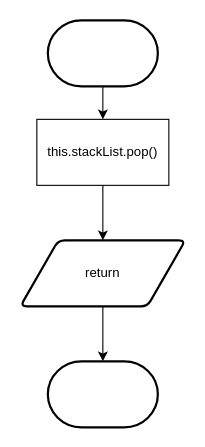
Some shapes in this 205 by 447 pixel diagram are drawn without their labels. The shapes that lost their labels are listed below. From the top down, each one's centre as x and y in pixels, then its label:
point (102, 53): start
point (102, 394): stop
